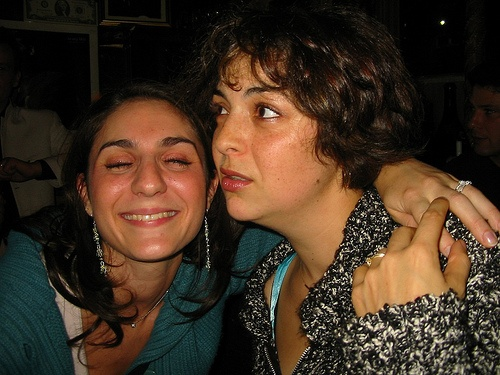head: (72, 82, 221, 265), (205, 24, 326, 229), (469, 68, 500, 155)
person: (178, 1, 490, 374), (1, 82, 241, 374), (1, 30, 77, 263), (443, 46, 500, 236)
